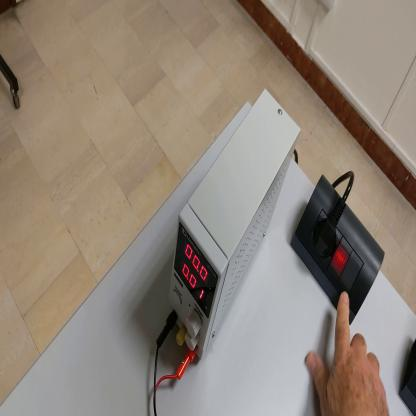hand: (305, 291, 389, 415)
power supply: (168, 89, 303, 353)
socket: (292, 174, 387, 327), (401, 339, 416, 416)
